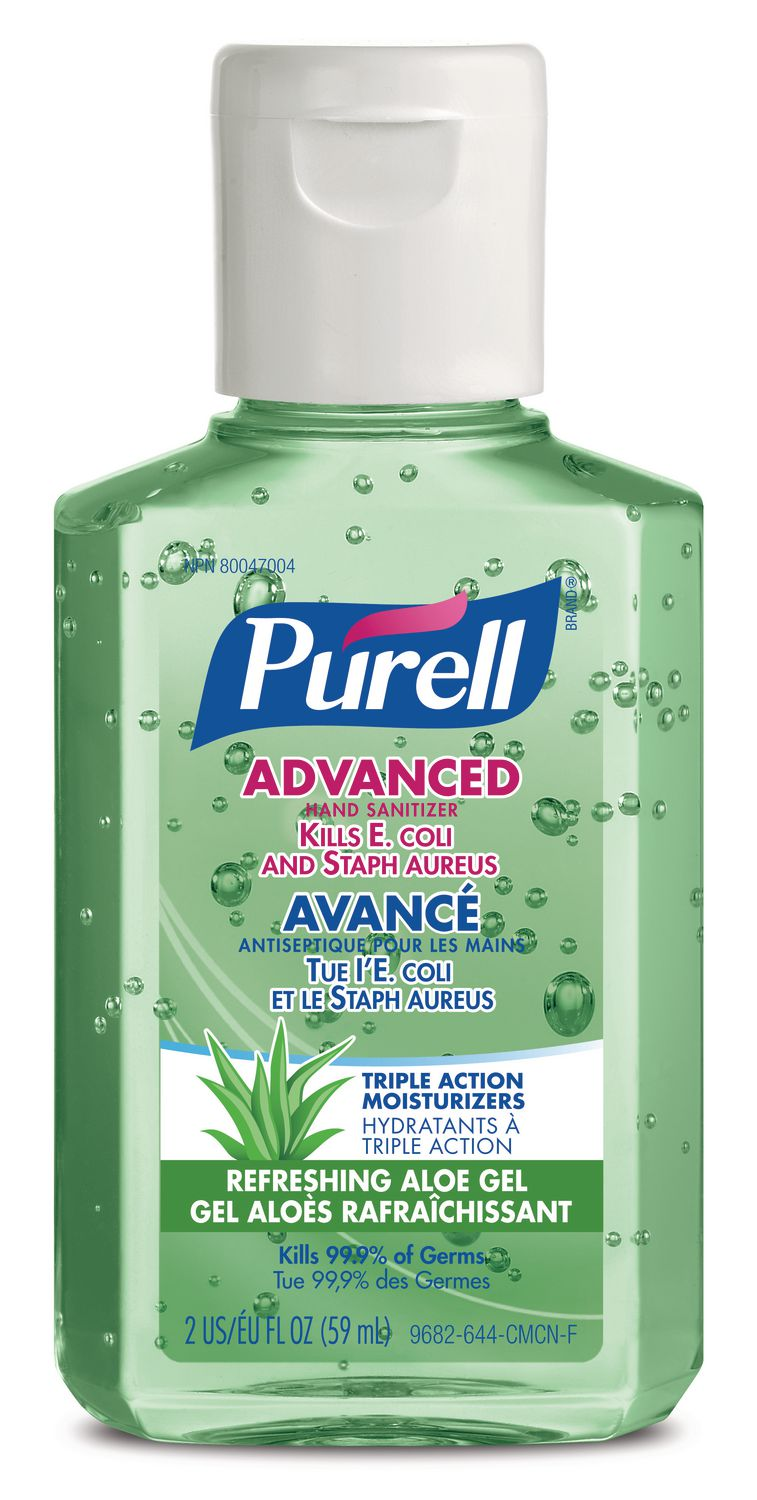Sanitizer: (39, 31, 719, 1459)
